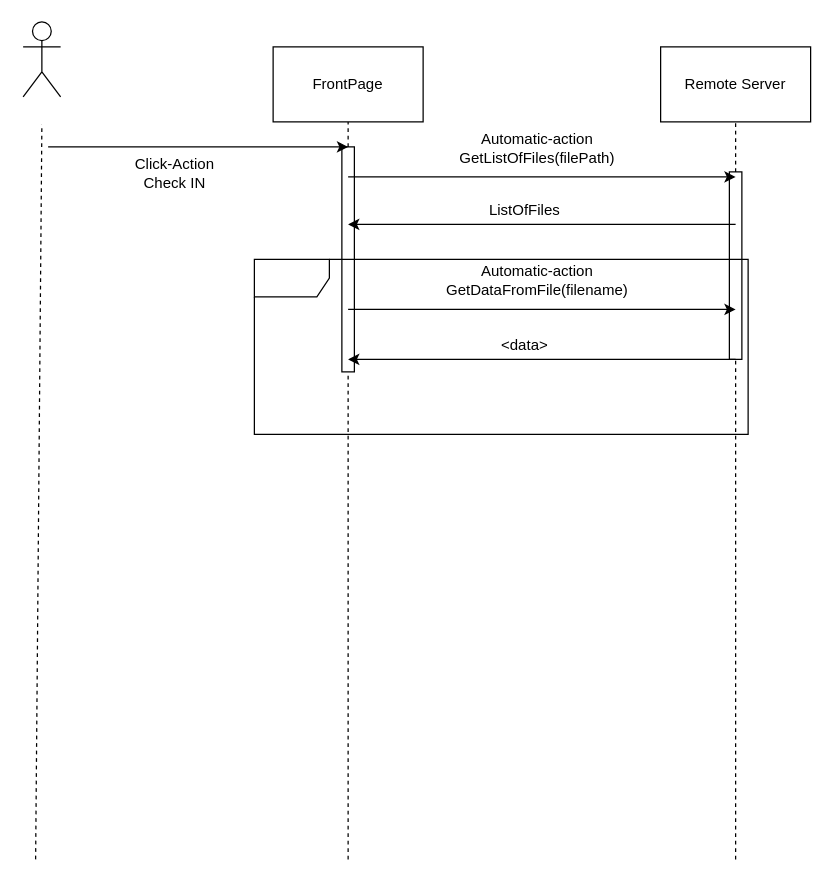
This 833x883 diagram has some shape labels left out. The centre of each missing label's shape, as x and y in pixels:
"Guest" goes at point (41, 59).
"Loop" goes at point (500, 346).
